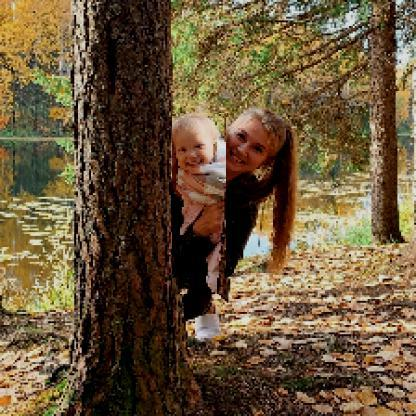child: (173, 115, 228, 297)
